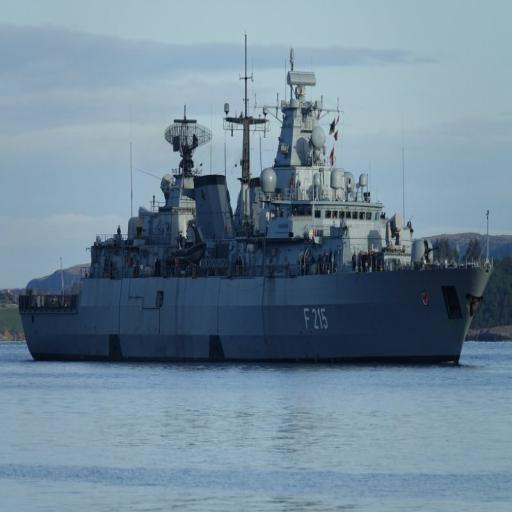Fragata: (17, 71, 495, 372)
